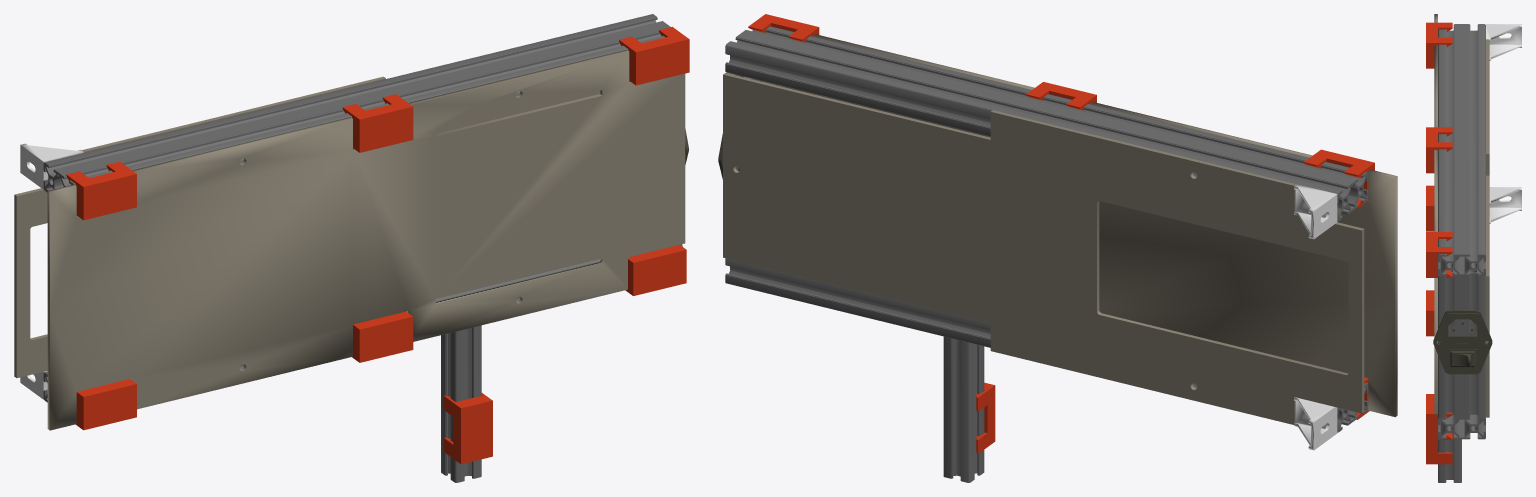
Rendered from FrEDBase.fbx.
The picture shows the model from 3 angles, left to right: view 1: azimuth 30°, elevation 25°; view 2: azimuth 150°, elevation 25°; view 3: azimuth 270°, elevation 25°; orthographic projection. The views are drawn at different scales.
Parts seen in each view (by area): view 1: FinalAssemblyV3 - bottomV2-1; view 2: FinalAssemblyV3 - bottomV2-1; view 3: FinalAssemblyV3 - bottomV2-1.
Part boxes in pixels (bbox=[...]): FinalAssemblyV3 - bottomV2-1: bbox=[14, 14, 689, 482]; FinalAssemblyV3 - bottomV2-1: bbox=[718, 14, 1397, 482]; FinalAssemblyV3 - bottomV2-1: bbox=[1426, 14, 1521, 482].
Bounding box in the file's own units: 48388 × 28190 × 8000.
